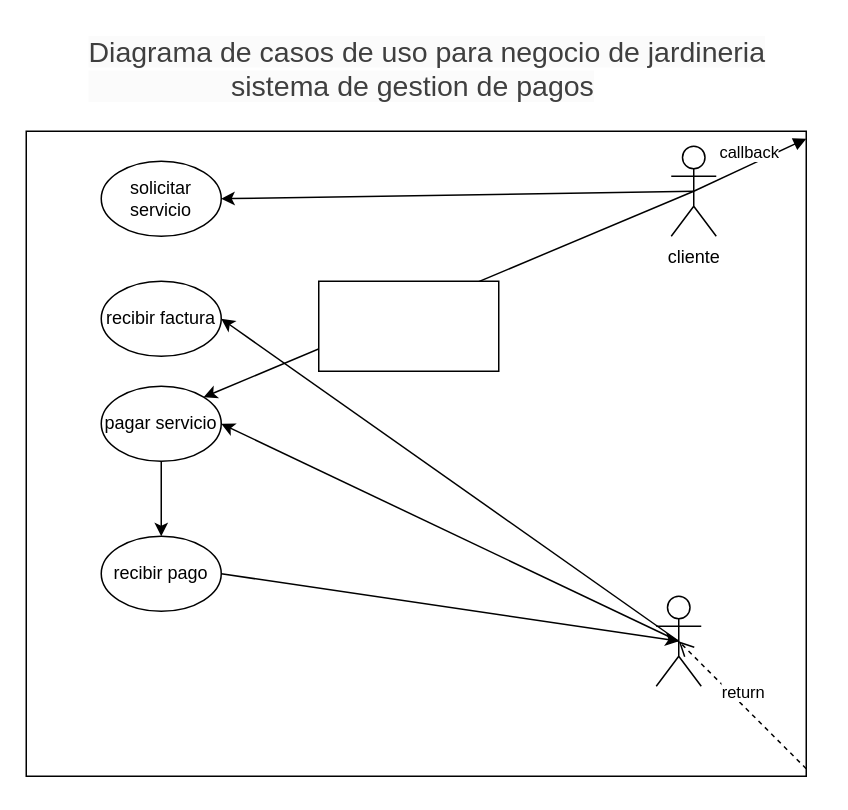
The diagram is 848 pixels wide and 810 high, and some of its shapes have lost their labels. The shapes that lost their labels are listed below. From the top down, each one's centre as x and y in pixels, then its label:
(x=408, y=325): proceso de pago
(x=678, y=640): jardinero
